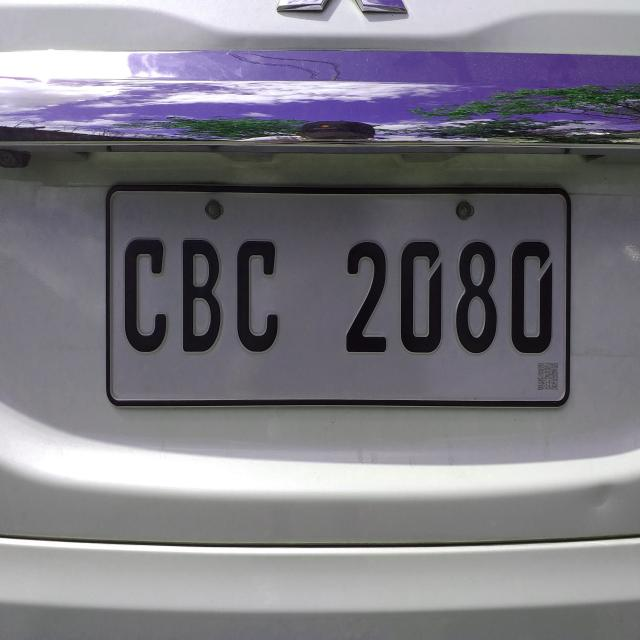Text: (107, 190, 569, 407)
